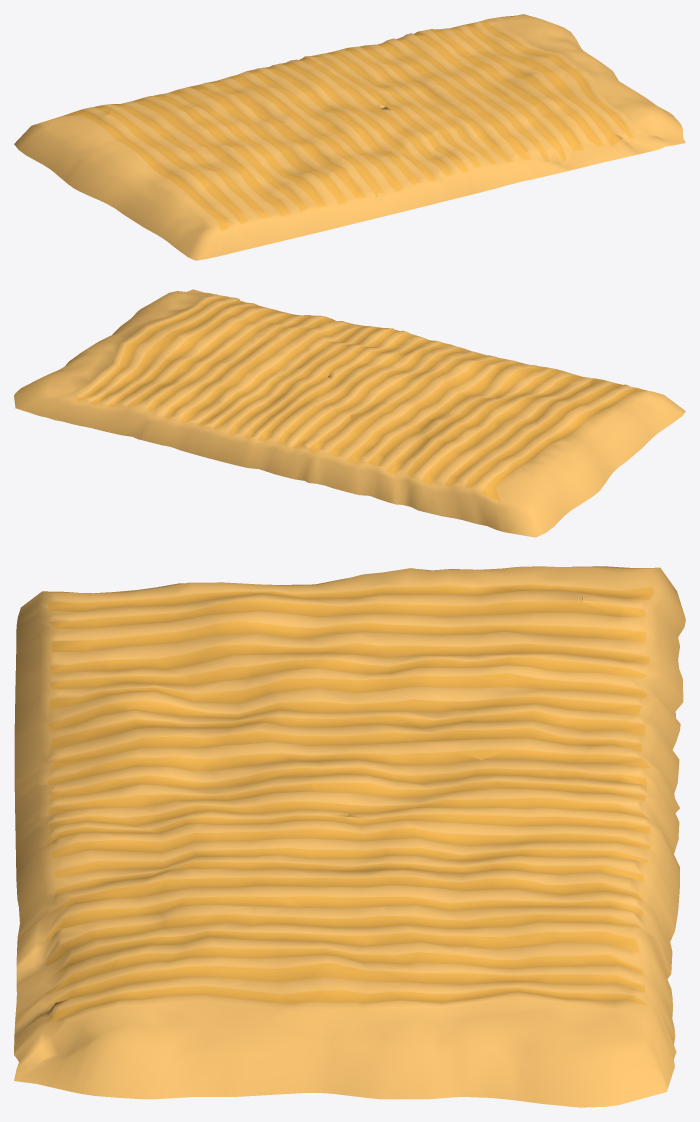
Rendered from field_005.glb.
The picture shows the model from 3 angles, top to bottom: view 1: azimuth 30°, elevation 25°; view 2: azimuth 150°, elevation 25°; view 3: azimuth 270°, elevation 25°; orthographic projection. The views are drawn at different scales.
Parts seen in each view (by area): view 1: field_005; view 2: field_005; view 3: field_005.
Boxes of the visible parts, x1,y1,x2,y2 form: field_005: [14, 14, 685, 260]; field_005: [14, 289, 685, 537]; field_005: [14, 566, 685, 1107].
Bounding box in the file's own units: 491 × 27.28 × 269.
1 material, 1 textured.
